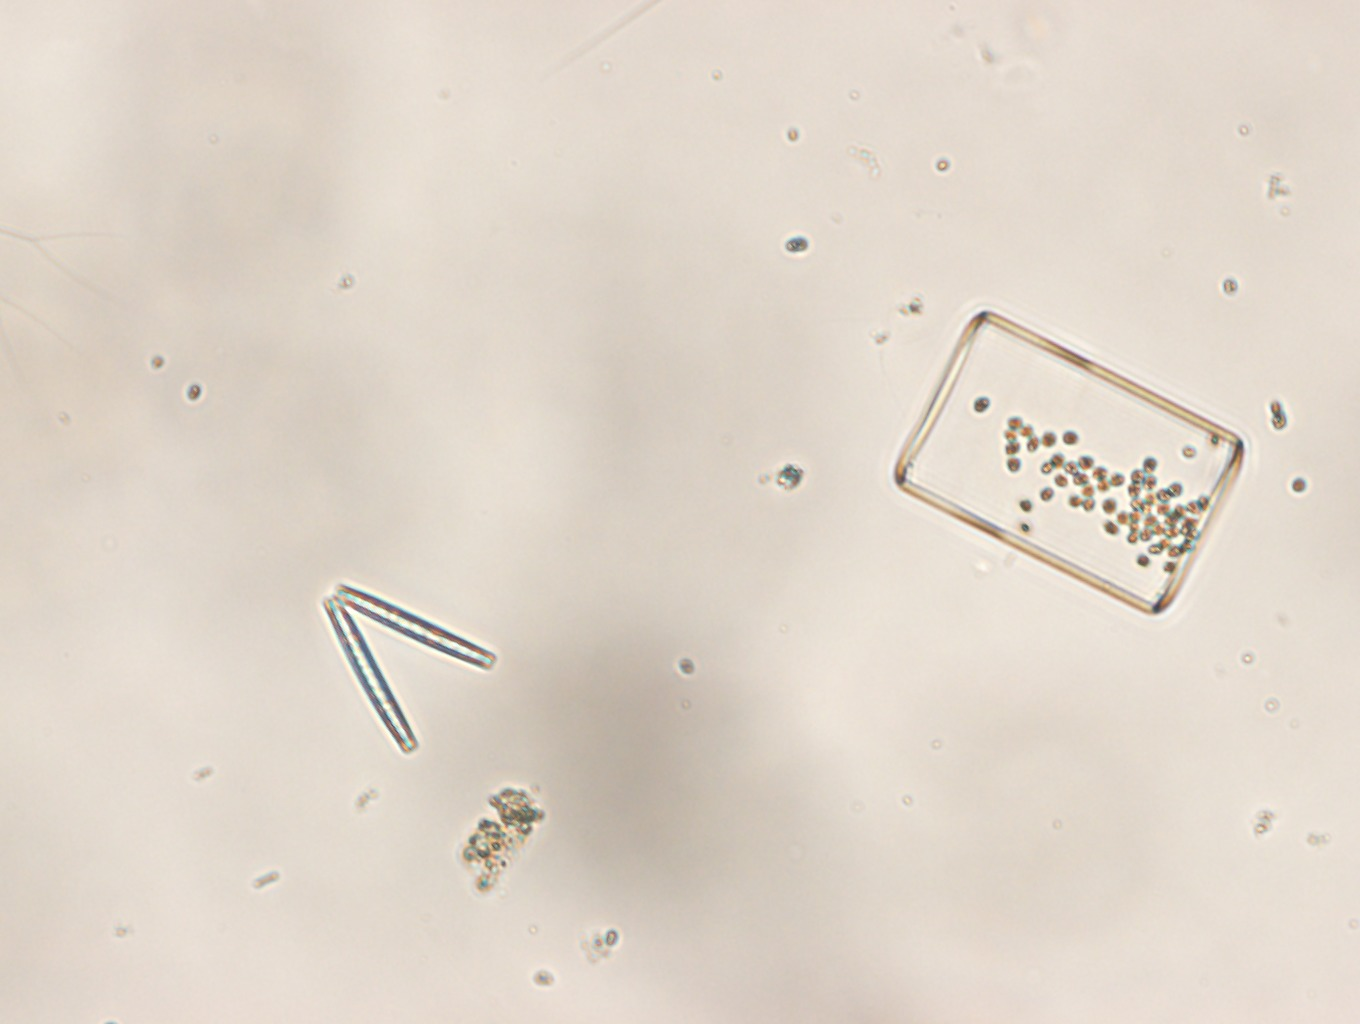guinardia flaccida: (892, 310, 1244, 616)
thalassionema nitzschioides: (320, 582, 497, 755)
